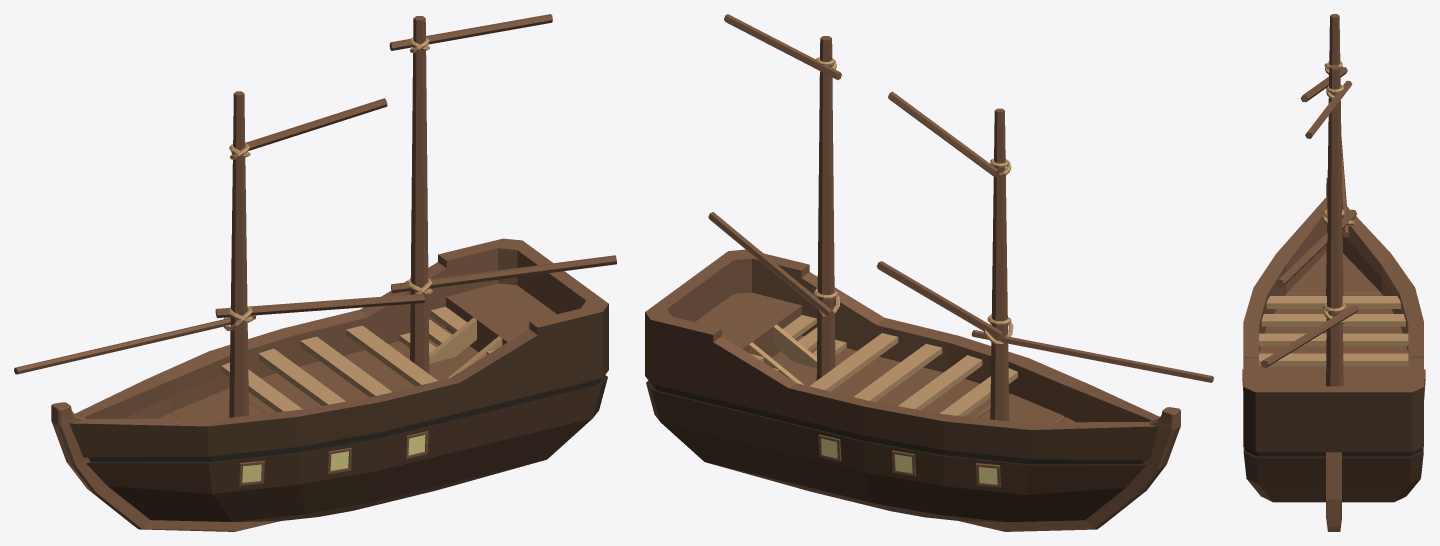
The model's file is MediumBoat.fbx.
3 renders of one model, left to right at view 1: azimuth 30°, elevation 25°; view 2: azimuth 150°, elevation 25°; view 3: azimuth 270°, elevation 25°, orthographic. The views are drawn at different scales.
Parts seen in each view (by area): view 1: Cube.043; view 2: Cube.043; view 3: Cube.043.
Part boxes in pixels (bbox=[...]): Cube.043: bbox=[14, 14, 616, 531]; Cube.043: bbox=[645, 14, 1213, 531]; Cube.043: bbox=[1242, 14, 1425, 531].
Bounding box in the file's own units: 516 × 410 × 161.
